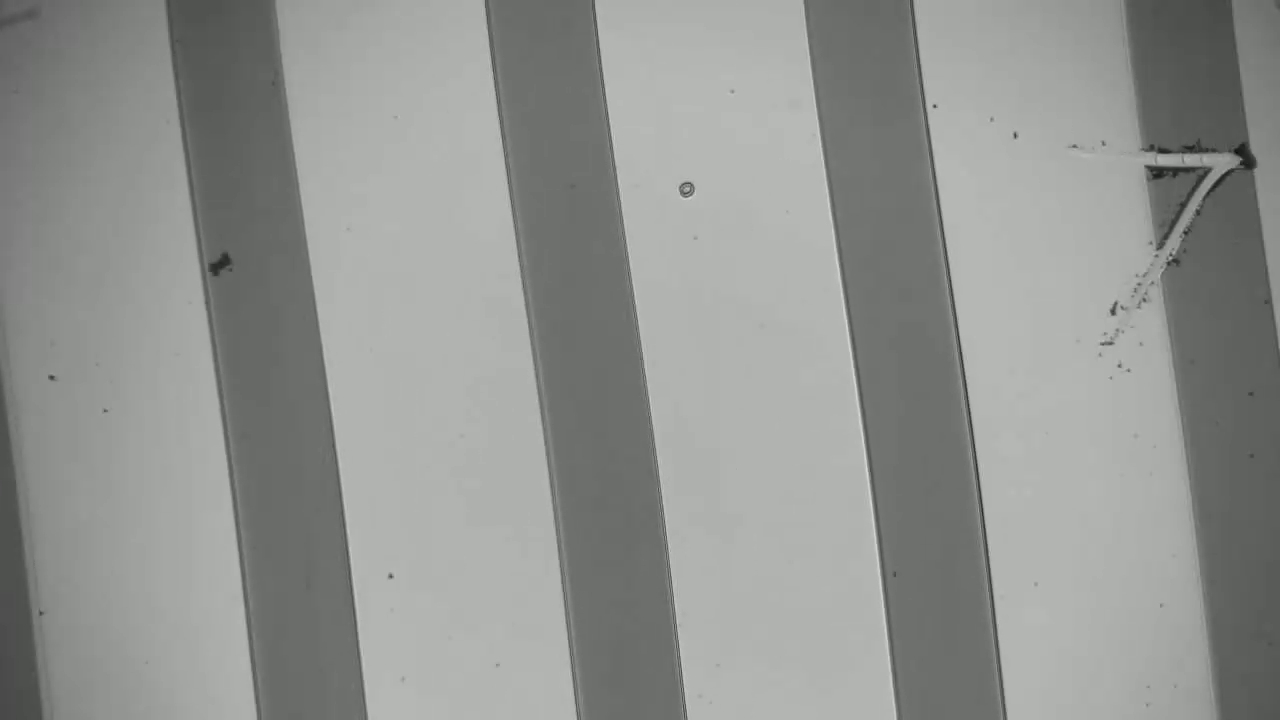Short_circuit: (1117, 113, 1271, 189)
